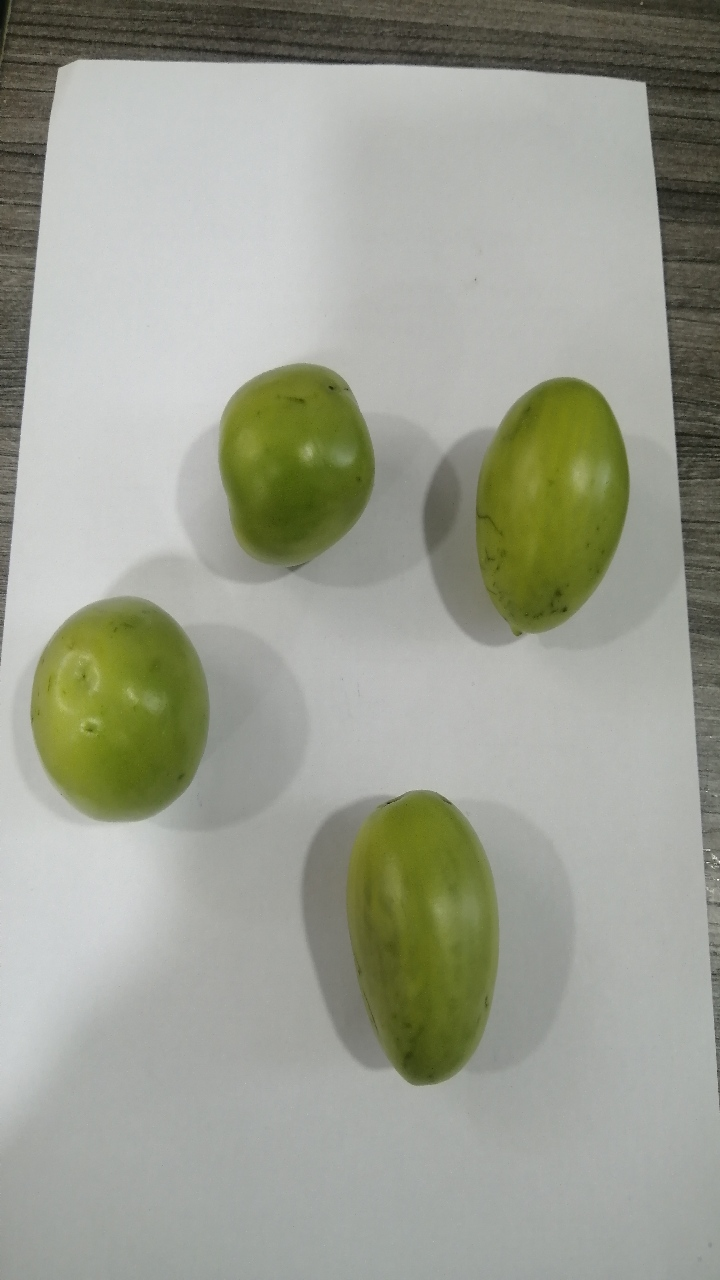tomateVerde: (323, 766, 531, 1111), (448, 346, 657, 674), (20, 572, 241, 851), (200, 322, 392, 599)
